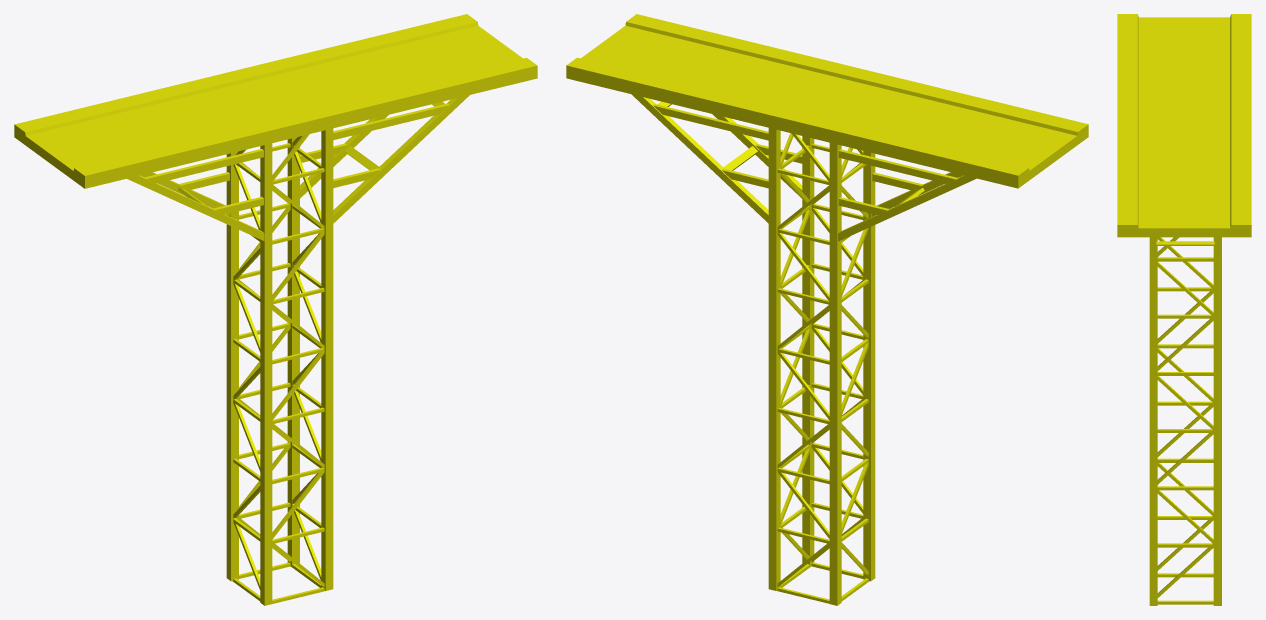
The model's file is platform.fbx.
The picture shows the model from 3 angles, left to right: view 1: azimuth 30°, elevation 25°; view 2: azimuth 150°, elevation 25°; view 3: azimuth 270°, elevation 25°; orthographic projection. The views are drawn at different scales.
Parts seen in each view (by area): view 1: _polySurface104; view 2: _polySurface104; view 3: _polySurface104.
Part boxes in pixels (box(x1,y1,x2,y2)): _polySurface104: box(14, 14, 537, 605); _polySurface104: box(566, 14, 1088, 605); _polySurface104: box(1117, 14, 1251, 605).
Size of the model in its own units: 1182 by 1226 by 319.
